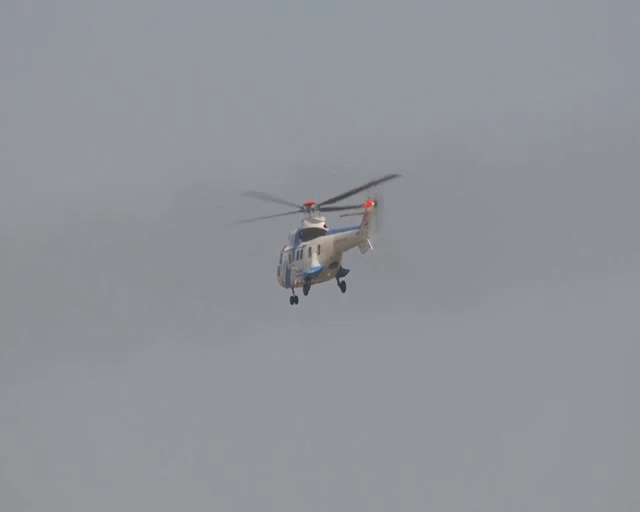HELICOPTER: (227, 172, 401, 306)
